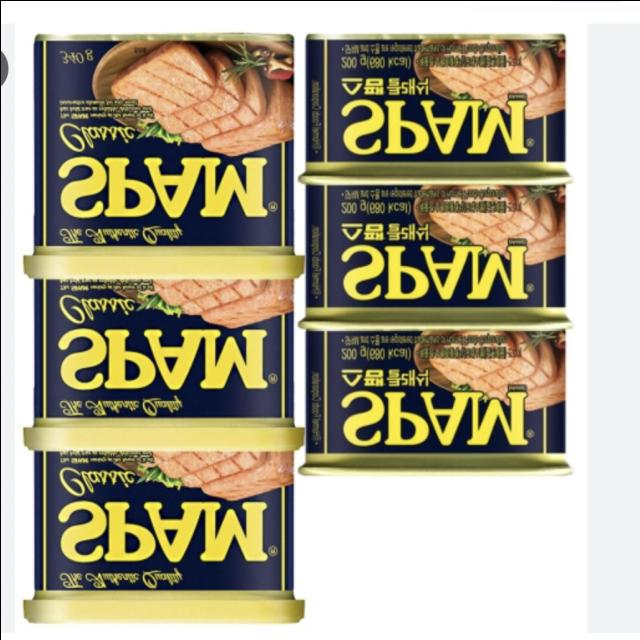can: (298, 16, 586, 492)
